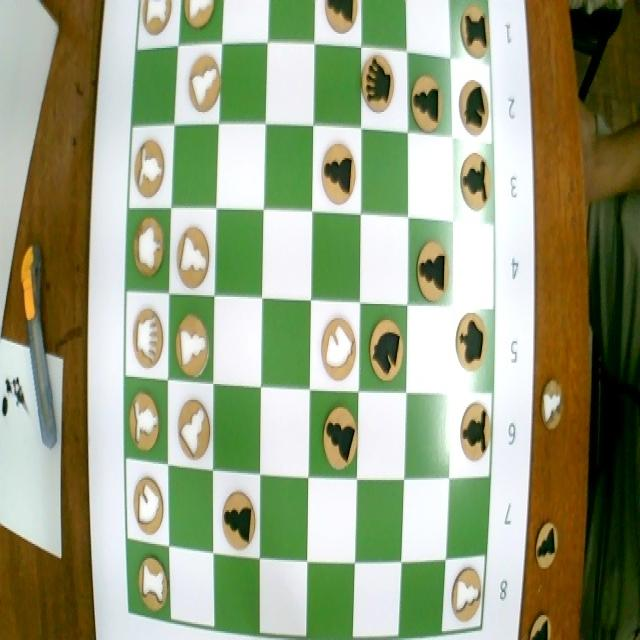chess-pieces: (312, 136, 365, 214), (455, 146, 500, 222), (450, 305, 496, 376), (172, 308, 213, 387), (174, 391, 215, 468), (412, 239, 452, 317), (218, 487, 260, 560), (131, 466, 169, 546), (174, 224, 216, 296), (185, 51, 228, 120), (319, 401, 360, 473), (358, 51, 400, 119), (320, 317, 360, 387), (458, 391, 494, 468), (369, 314, 405, 390), (133, 550, 171, 622), (449, 558, 486, 631), (410, 71, 448, 142), (456, 77, 494, 146), (132, 215, 168, 279), (132, 307, 166, 374), (128, 389, 162, 453), (134, 134, 166, 200), (460, 0, 495, 60), (323, 0, 362, 40), (140, 0, 175, 41), (181, 0, 216, 36)
